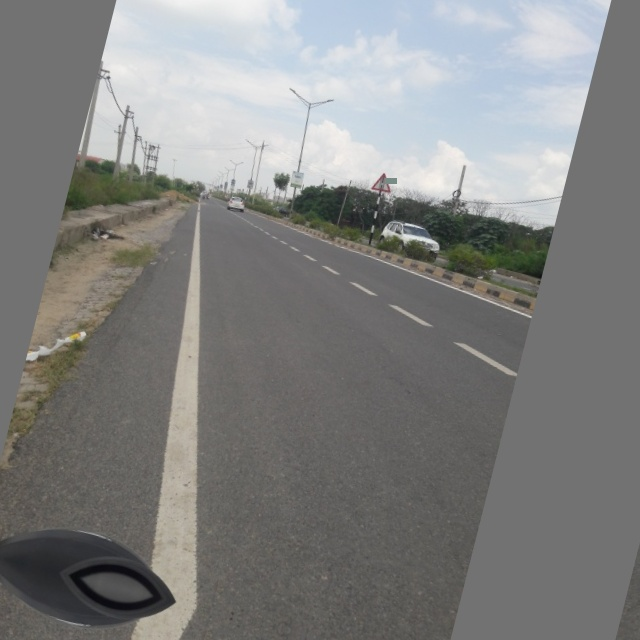Gap_in_Median: (366, 167, 398, 196)
